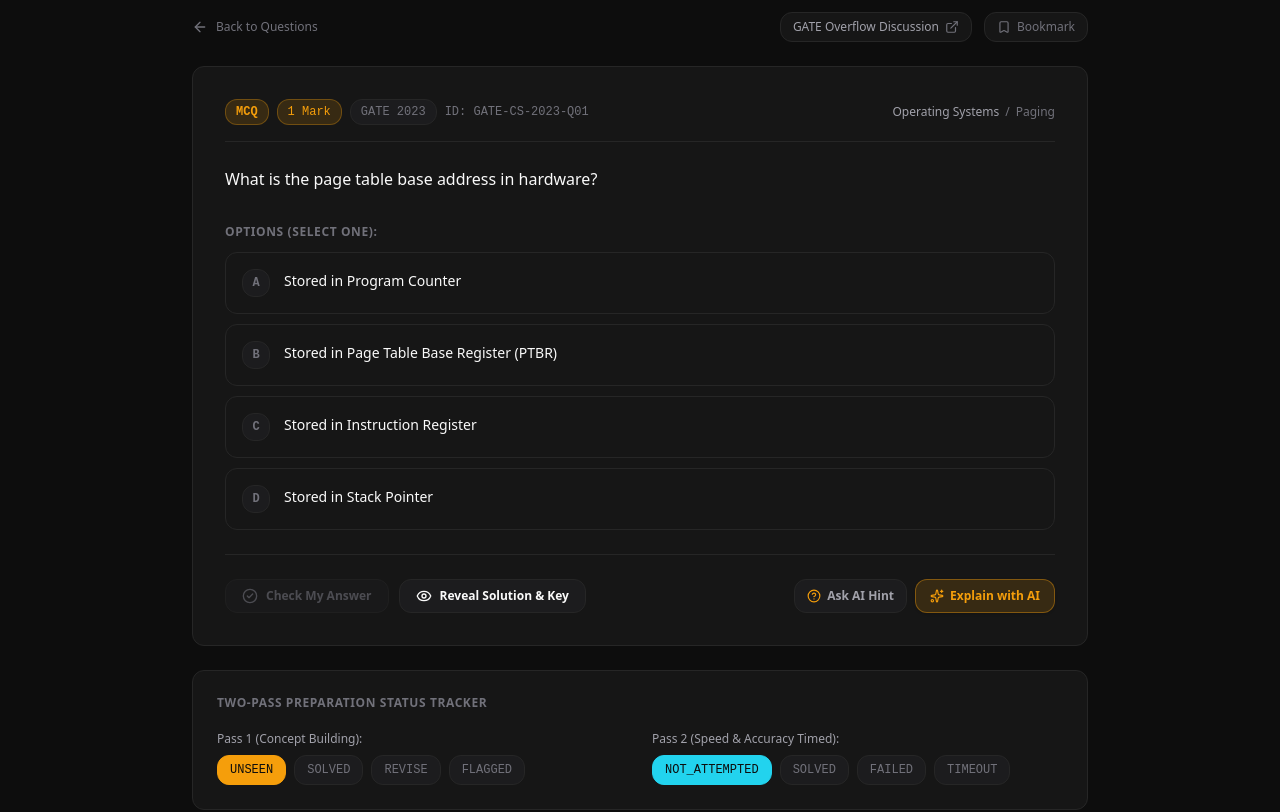
Scenario: QuestionDetailPage › honest-judge PASS - clicking Reveal Solution & Key unmasks correct options and explanation
Click the button "Reveal Solution & Key" at (492, 596), box [399,579,586,613]
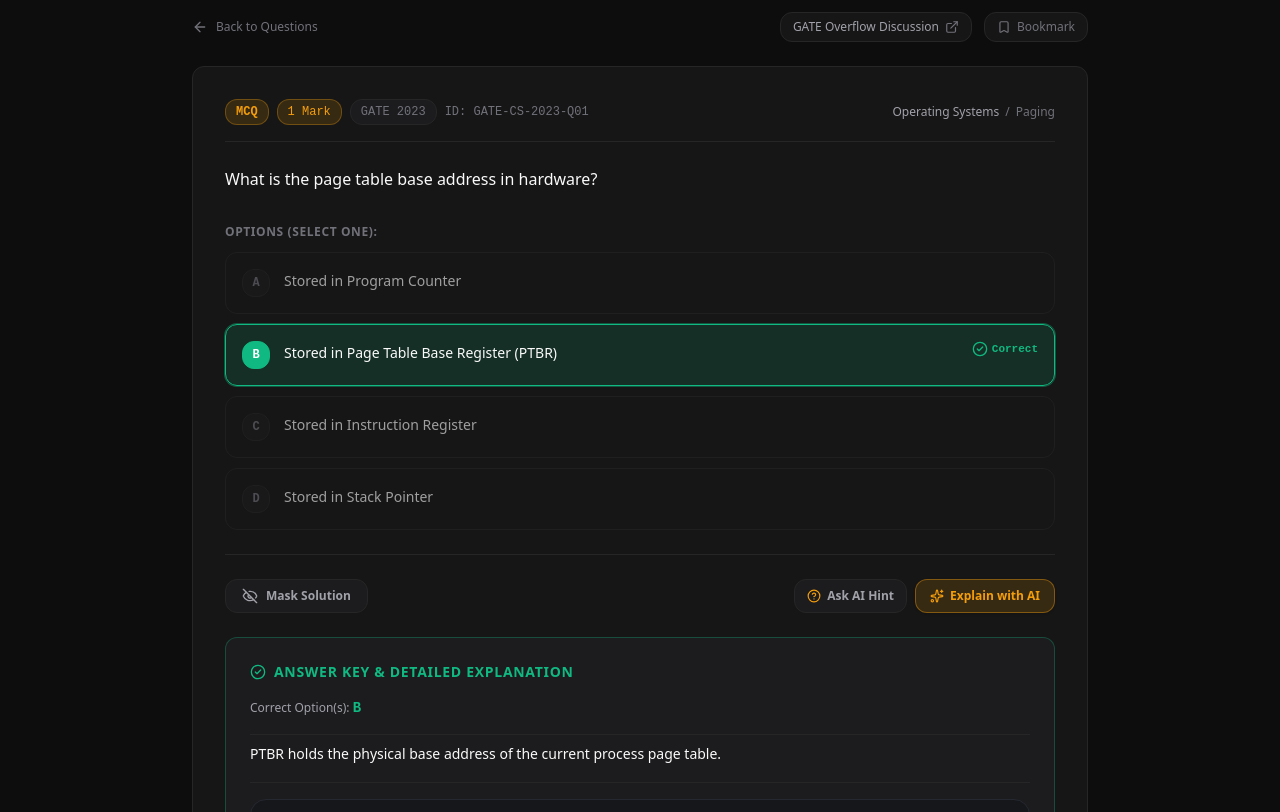
expect the text "Answer Key & Detailed Explanation" is shown: met, box [274,662,574,682]
expect the text "PTBR holds the physical base address of the current process page table." is shown: met, box [250,744,721,763]
expect the text "Mask Solution" is shown: met, box [266,588,351,604]
